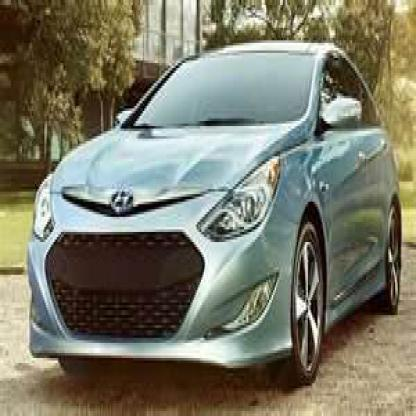Vehicle: (30, 43, 405, 388)
